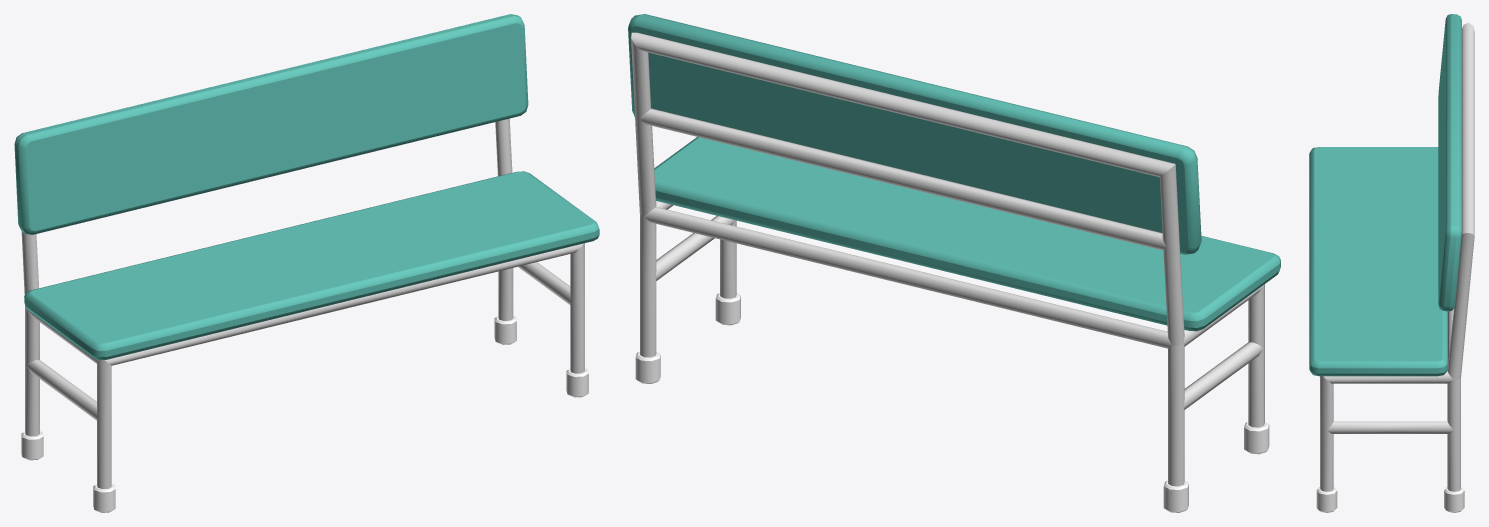
File: Medical_bench_2.fbx
The picture shows the model from 3 angles, left to right: view 1: azimuth 30°, elevation 25°; view 2: azimuth 150°, elevation 25°; view 3: azimuth 270°, elevation 25°; orthographic projection. The views are drawn at different scales.
Visible parts, largest first — view 1: Medical_bench_2; view 2: Medical_bench_2; view 3: Medical_bench_2.
Boxes of the visible parts, box(x1,y1,x2,y2) form: Medical_bench_2: box(14, 14, 599, 512); Medical_bench_2: box(628, 14, 1280, 512); Medical_bench_2: box(1309, 14, 1474, 512).
Bounding box in the file's own units: 1.52 × 0.9336 × 0.4868.
